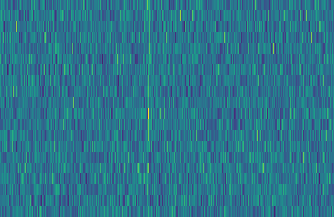signal: (142, 0, 154, 217)
